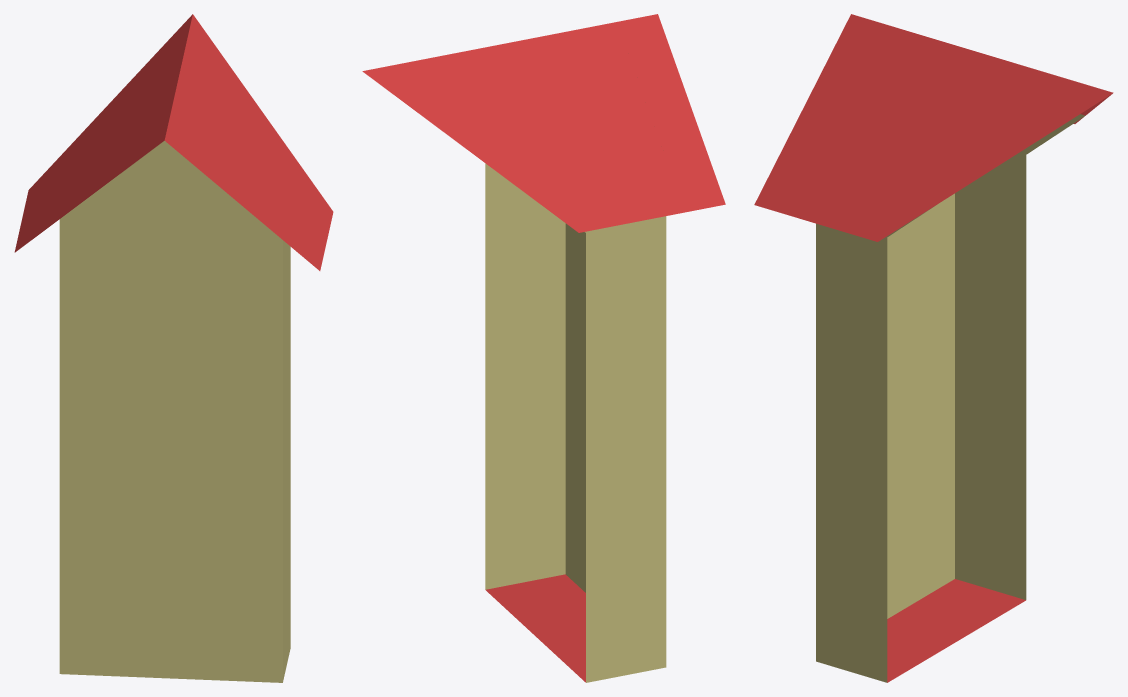
3 renders of one model, left to right at view 1: azimuth 30°, elevation 25°; view 2: azimuth 150°, elevation 25°; view 3: azimuth 270°, elevation 25°, orthographic. The views are drawn at different scales.
Size of the model in its own units: 8.02 by 8.1 by 14.78.
